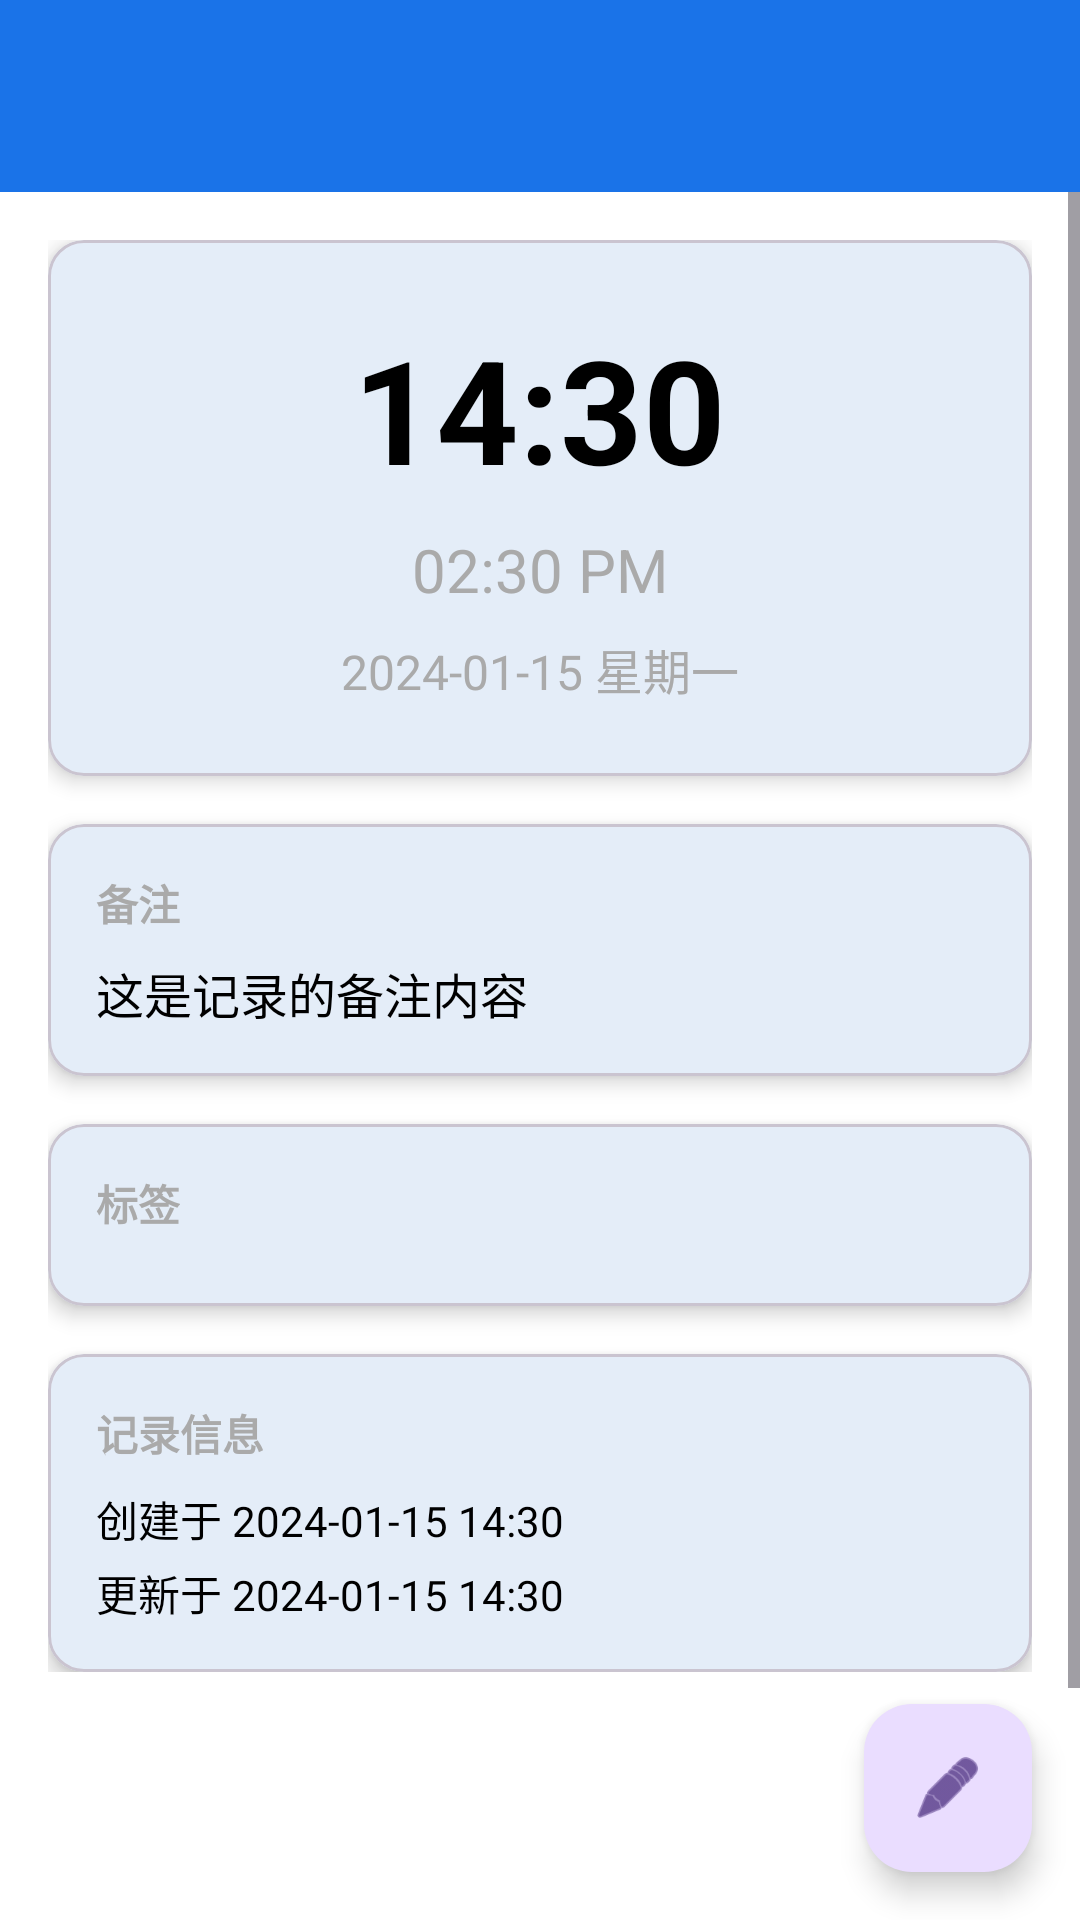

Screen size 1080*1920. Icon name, then its center in pixels as (x,y):
编辑记录: (948,1788)
